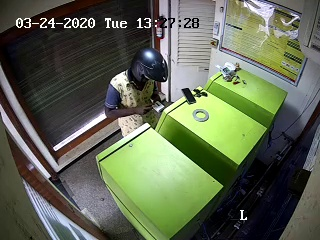helmet: (129, 48, 168, 93)
